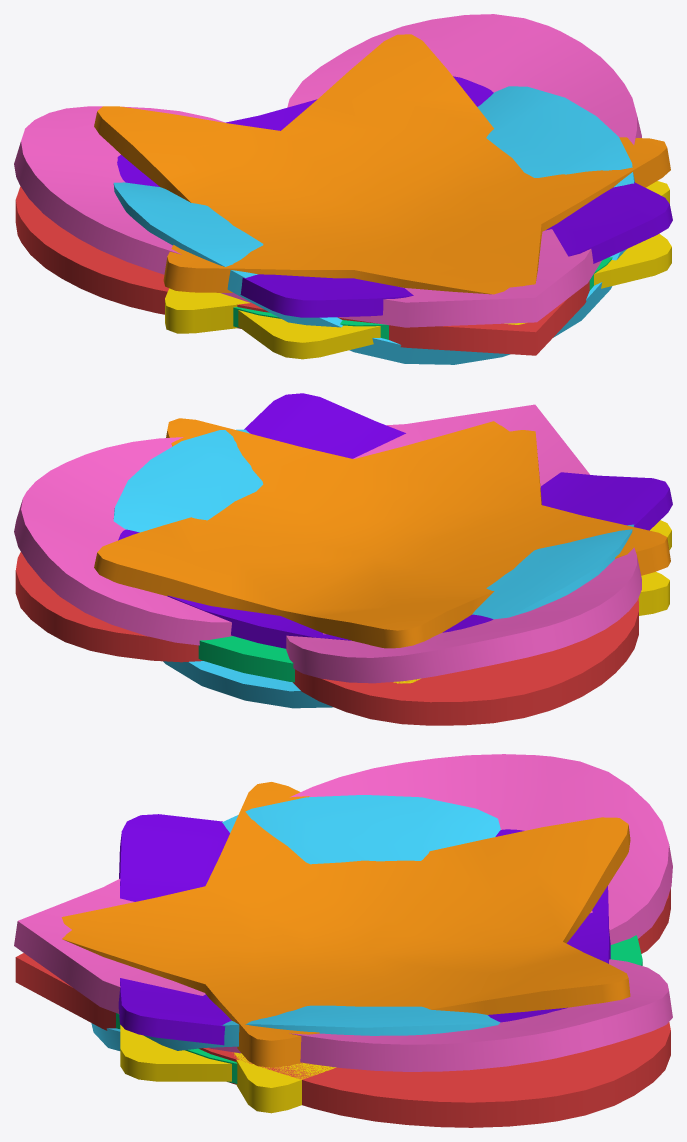
File: Confetti_new.fbx
3 renders of one model, top to bottom at view 1: azimuth 30°, elevation 25°; view 2: azimuth 150°, elevation 25°; view 3: azimuth 270°, elevation 25°, orthographic. The views are drawn at different scales.
Parts seen in each view (by area): view 1: Star_1, Heart_1, Cylinder_1, Cube_1, Heart, Cube, Star, Cylinder; view 2: Star_1, Heart_1, Heart, Cylinder_1, Cube_1, Cylinder, Star; view 3: Star_1, Heart_1, Heart, Cylinder_1, Cube_1, Cube, Star, Cylinder.
Boxes of the visible parts, x1,y1,x2,y2 form: Star_1: [94, 34, 670, 294]; Heart_1: [14, 14, 641, 327]; Cylinder_1: [113, 86, 634, 364]; Cube_1: [117, 76, 672, 317]; Heart: [15, 186, 589, 355]; Cube: [238, 233, 671, 359]; Star: [165, 181, 669, 333]; Cylinder: [233, 257, 612, 339]; Star_1: [94, 418, 670, 648]; Heart_1: [14, 404, 641, 683]; Heart: [15, 552, 638, 725]; Cylinder_1: [113, 429, 634, 708]; Cube_1: [118, 393, 672, 648]; Cylinder: [198, 636, 294, 682]; Star: [393, 571, 669, 683]; Star_1: [61, 782, 630, 1067]; Heart_1: [14, 754, 672, 1071]; Heart: [15, 888, 670, 1127]; Cylinder_1: [91, 795, 500, 1050]; Cube_1: [118, 814, 610, 1045]; Cube: [120, 1025, 231, 1081]; Star: [234, 1052, 336, 1113]; Cylinder: [116, 935, 642, 1083].
Size of the model in its own units: 1993 by 372 by 1892.
